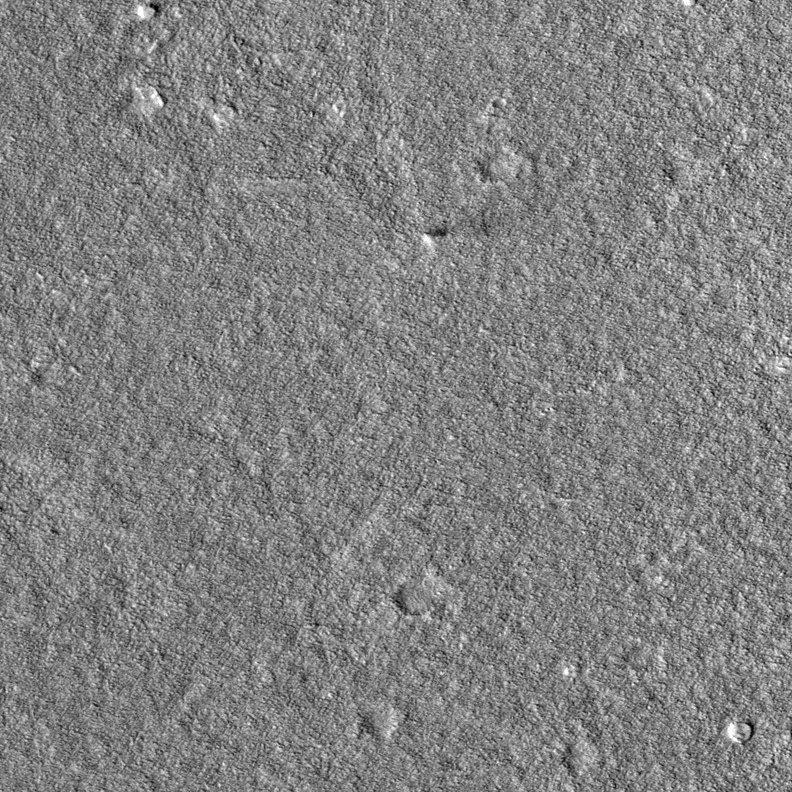dust_devil: (421, 224, 450, 250)
